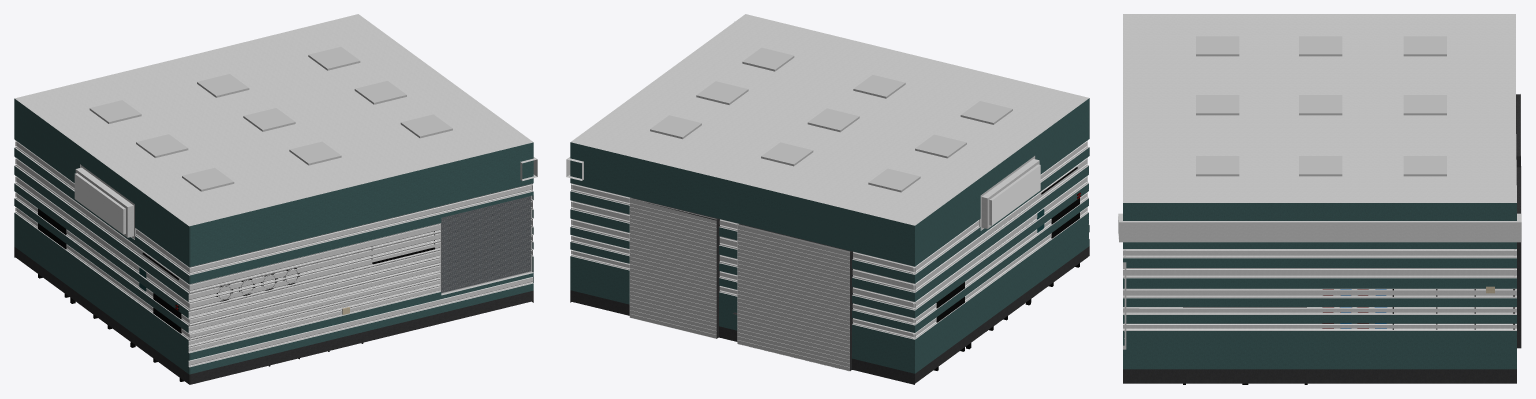
File: garage.glb
The picture shows the model from 3 angles, left to right: view 1: azimuth 30°, elevation 25°; view 2: azimuth 150°, elevation 25°; view 3: azimuth 270°, elevation 25°; orthographic projection. The views are drawn at different scales.
Parts seen in each view (by area): view 1: Plane001, Box007_chern_0, Box029, Box021, Box023, Box024, Box026, Box027, Box028, Box025, Box022; view 2: Plane001, Box007_chern_0, Box023, Box027, Box025, Box021, Box024, Box028, Box029, Box022, Box026; view 3: Plane001, Box014, Box021, Box022, Box023, Box024, Box025, Box026, Box027, Box028, Box029.
Part boxes in pixels (left/top/right/bottom): Plane001: left=14, top=14, right=533, bottom=384; Box007_chern_0: left=38, top=208, right=434, bottom=381; Box029: left=197, top=74, right=249, bottom=97; Box021: left=182, top=168, right=234, bottom=191; Box023: left=89, top=100, right=141, bottom=123; Box024: left=400, top=114, right=452, bottom=138; Box026: left=308, top=47, right=360, bottom=70; Box027: left=289, top=141, right=341, bottom=165; Box028: left=243, top=108, right=295, bottom=131; Box025: left=354, top=81, right=406, bottom=104; Box022: left=136, top=134, right=188, bottom=157; Plane001: left=570, top=14, right=1089, bottom=384; Box007_chern_0: left=934, top=167, right=1079, bottom=370; Box023: left=868, top=168, right=920, bottom=192; Box027: left=853, top=75, right=905, bottom=98; Box025: left=696, top=81, right=748, bottom=104; Box021: left=960, top=101, right=1012, bottom=124; Box024: left=742, top=47, right=794, bottom=71; Box028: left=807, top=108, right=859, bottom=132; Box029: left=761, top=142, right=813, bottom=166; Box022: left=915, top=134, right=966, bottom=158; Box026: left=650, top=115, right=701, bottom=139; Plane001: left=1123, top=14, right=1521, bottom=383; Box014: left=1118, top=213, right=1521, bottom=242; Box021: left=1196, top=36, right=1239, bottom=56; Box022: left=1299, top=36, right=1342, bottom=56; Box023: left=1403, top=36, right=1446, bottom=56; Box024: left=1196, top=156, right=1239, bottom=176; Box025: left=1299, top=156, right=1342, bottom=176; Box026: left=1403, top=156, right=1446, bottom=176; Box027: left=1196, top=95, right=1239, bottom=115; Box028: left=1299, top=95, right=1342, bottom=115; Box029: left=1403, top=95, right=1446, bottom=115.
Size of the model in its own units: 12.53 by 5.72 by 10.97.
23 materials, 5 textured.
